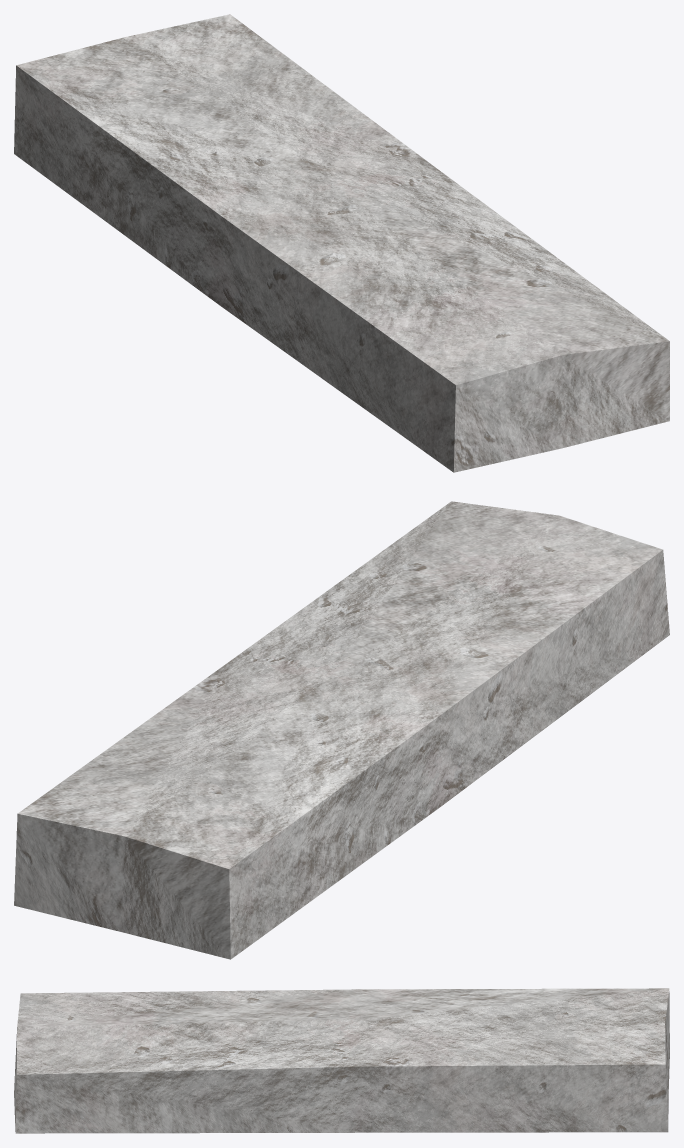
The model's file is step1_LOD2.FBX.
3 views of the same model, one above another, from view 1: azimuth 30°, elevation 25°; view 2: azimuth 150°, elevation 25°; view 3: azimuth 270°, elevation 25° (orthographic). The views are drawn at different scales.
Parts seen in each view (by area): view 1: step1_LOD02; view 2: step1_LOD02; view 3: step1_LOD02.
Part boxes in pixels (x1,y1,x2,y2): step1_LOD02: (14,14,669,472); step1_LOD02: (14,501,669,959); step1_LOD02: (14,988,669,1133).
Bounding box in the file's own units: 49.9 × 21.37 × 172.
